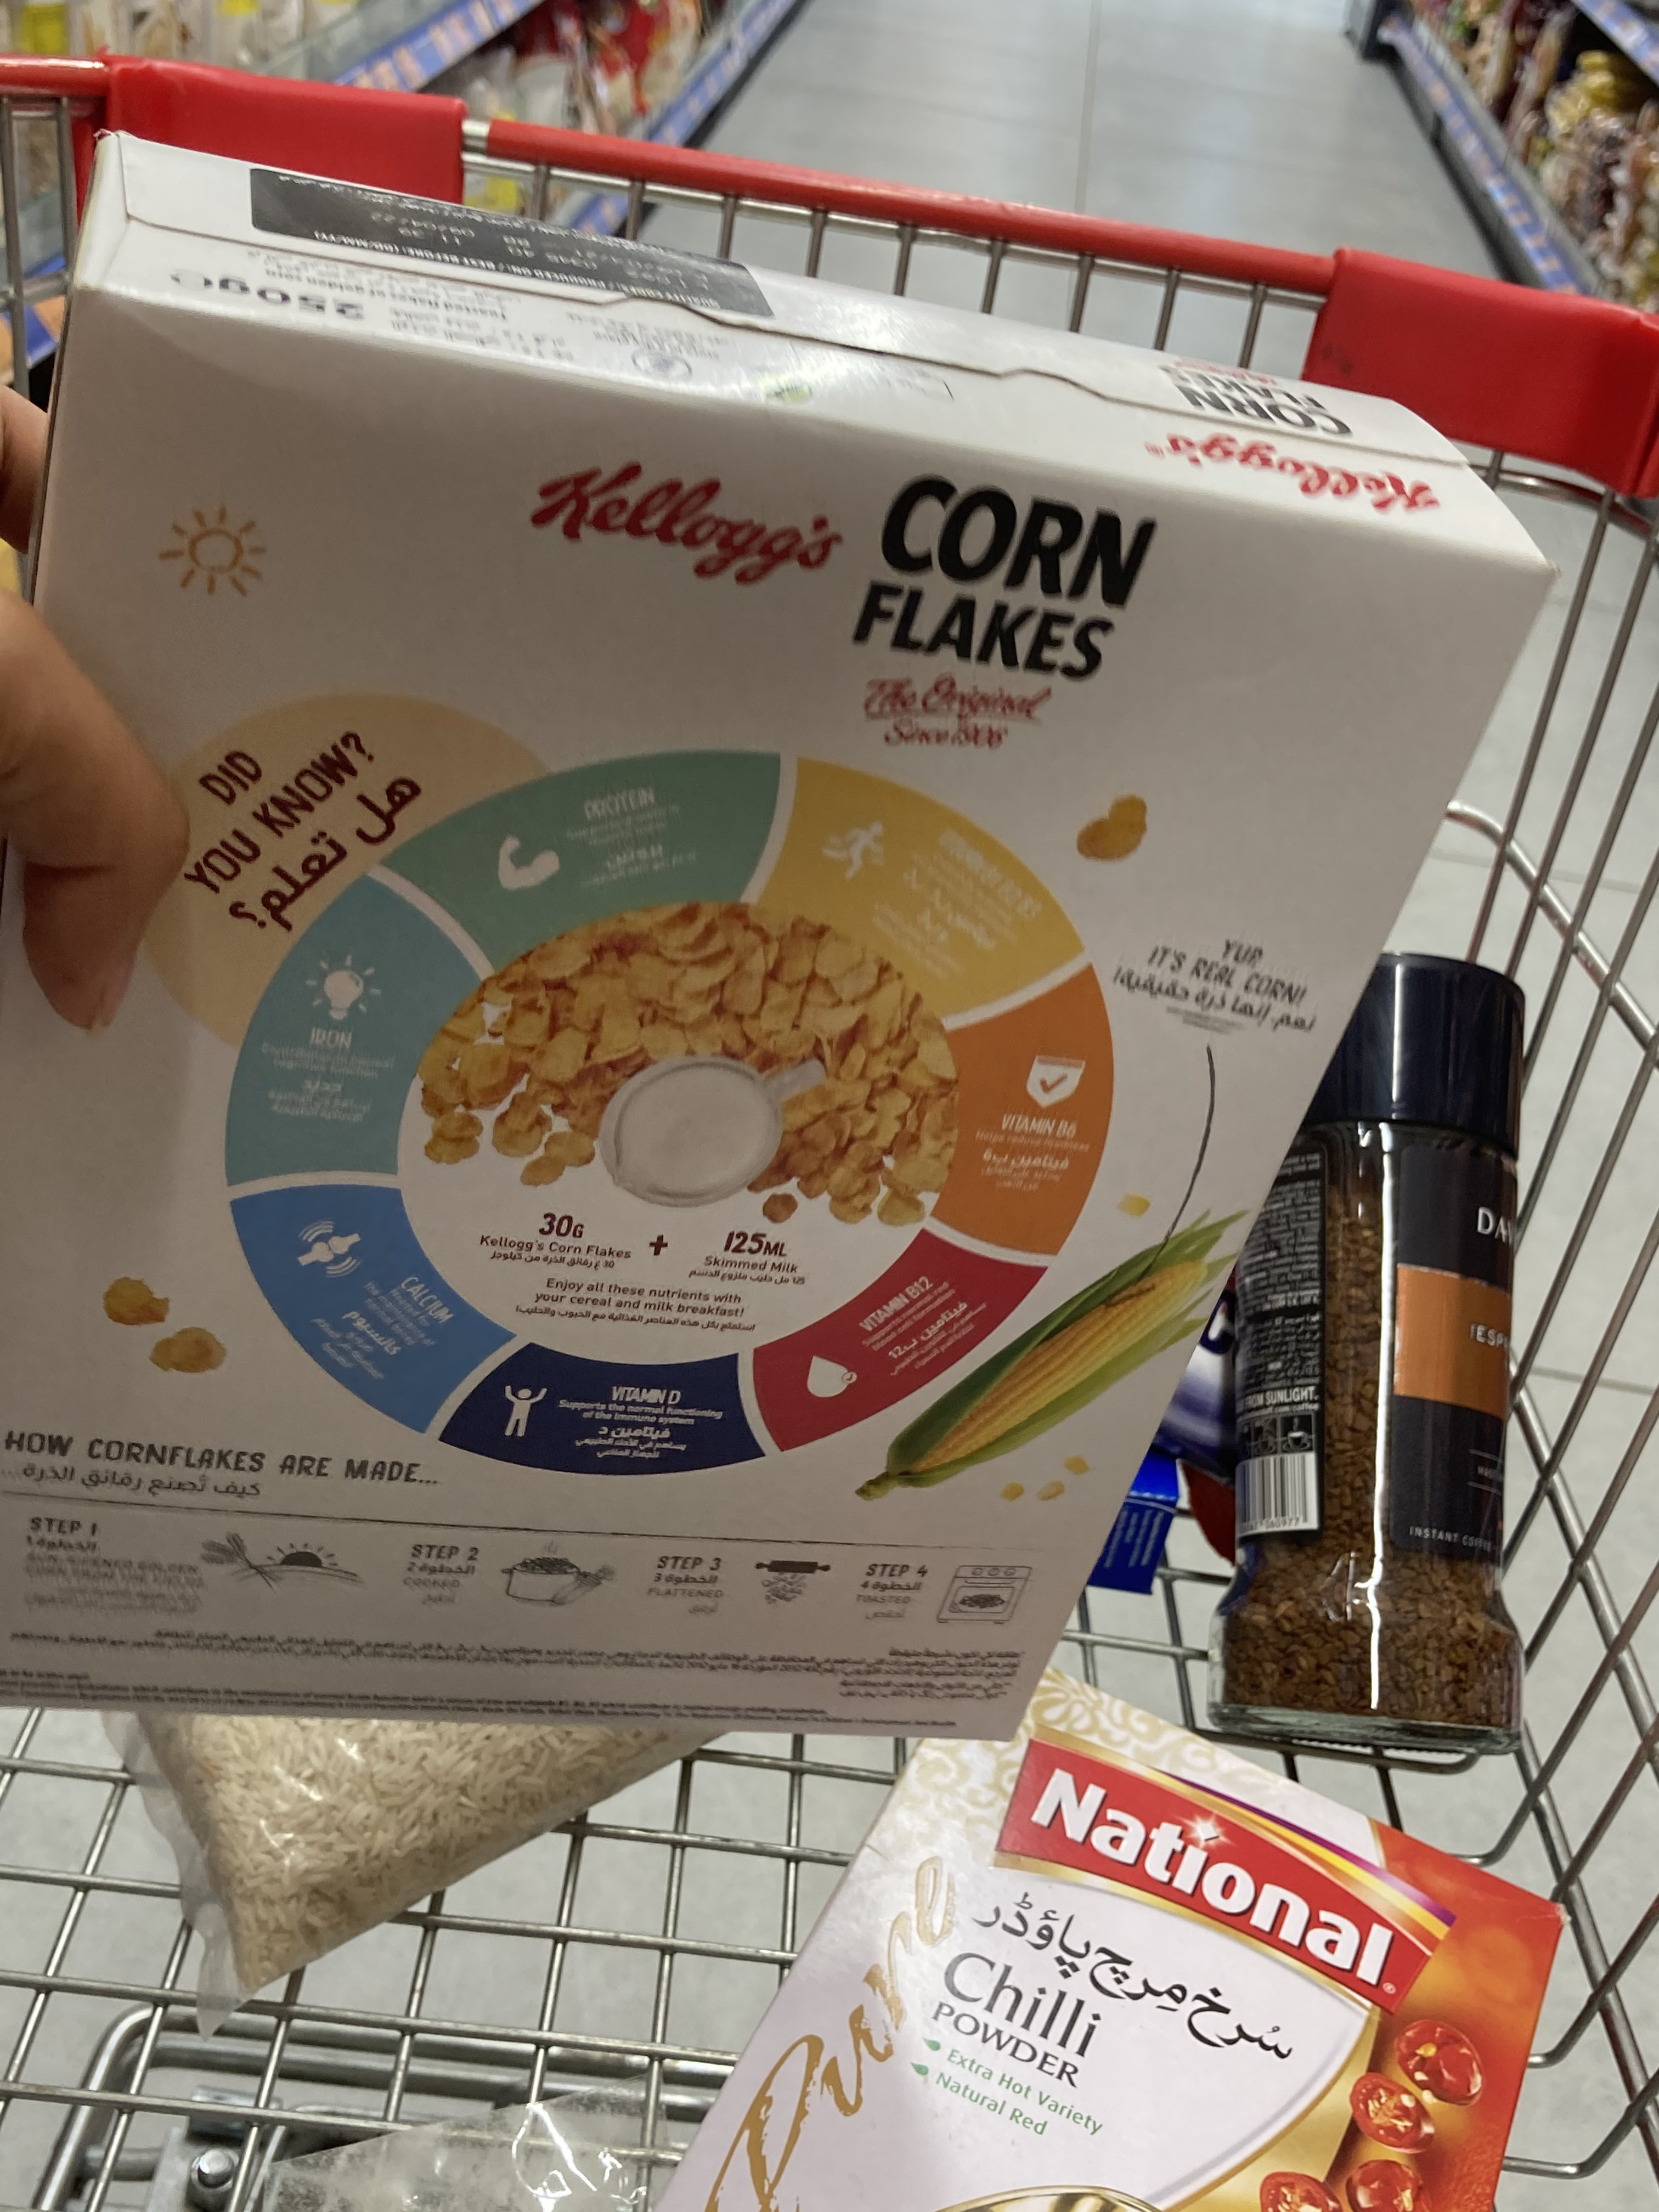Kellogg's Corn Flakes: (9, 125, 1537, 1747)
